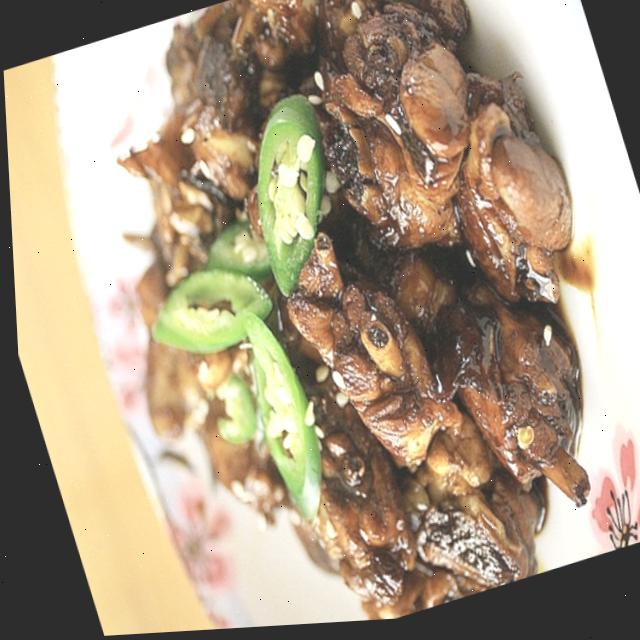鸡肉料理 含炸鸡: (17, 0, 640, 639)
